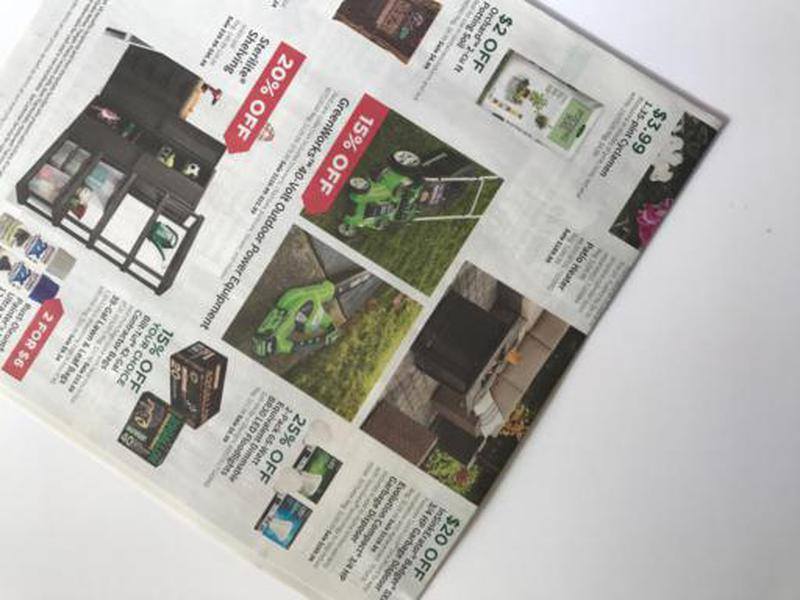paper: (1, 1, 738, 600)
